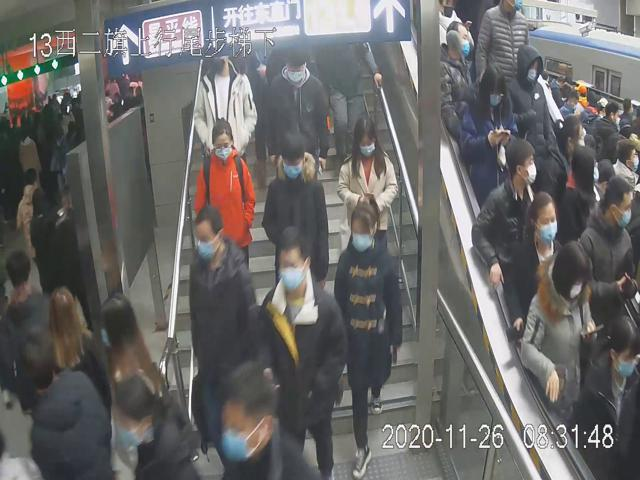person: (255, 219, 351, 480), (332, 198, 404, 480), (187, 204, 255, 380), (472, 136, 542, 288), (261, 128, 327, 288), (502, 192, 571, 343), (193, 117, 257, 264), (258, 49, 329, 170), (458, 61, 519, 200), (335, 115, 398, 249)
